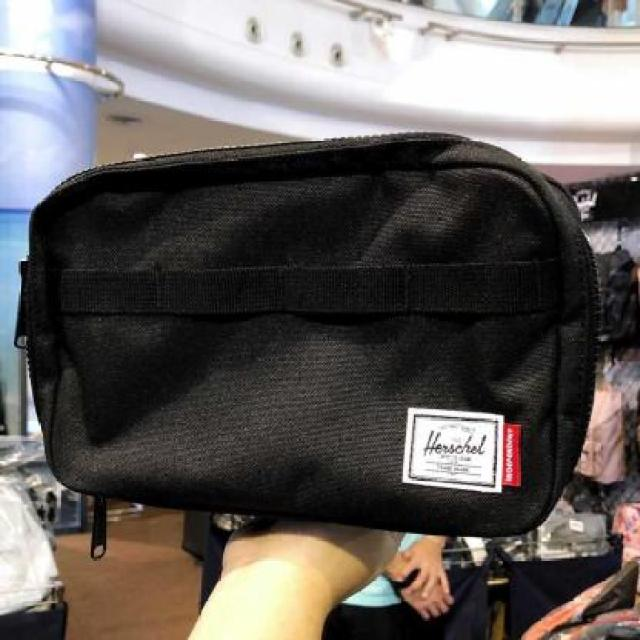Bag: (0, 125, 640, 566)
